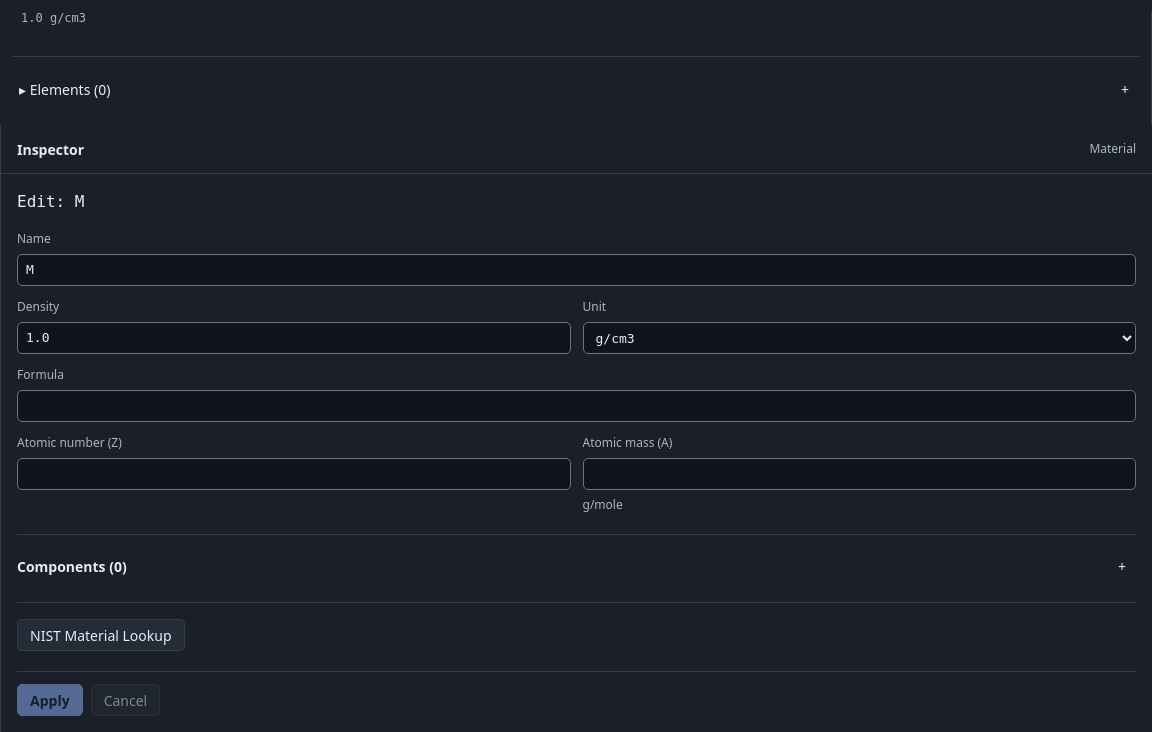
it: material drafts and document actions › Cancel restores the applied value without discarding earlier unsaved work
This screenshot has width=1152, height=732.
(page scrolled)
Replace the text in the field labelled "Density" with "3.25". click: (294, 338)
box: [17, 322, 570, 354]
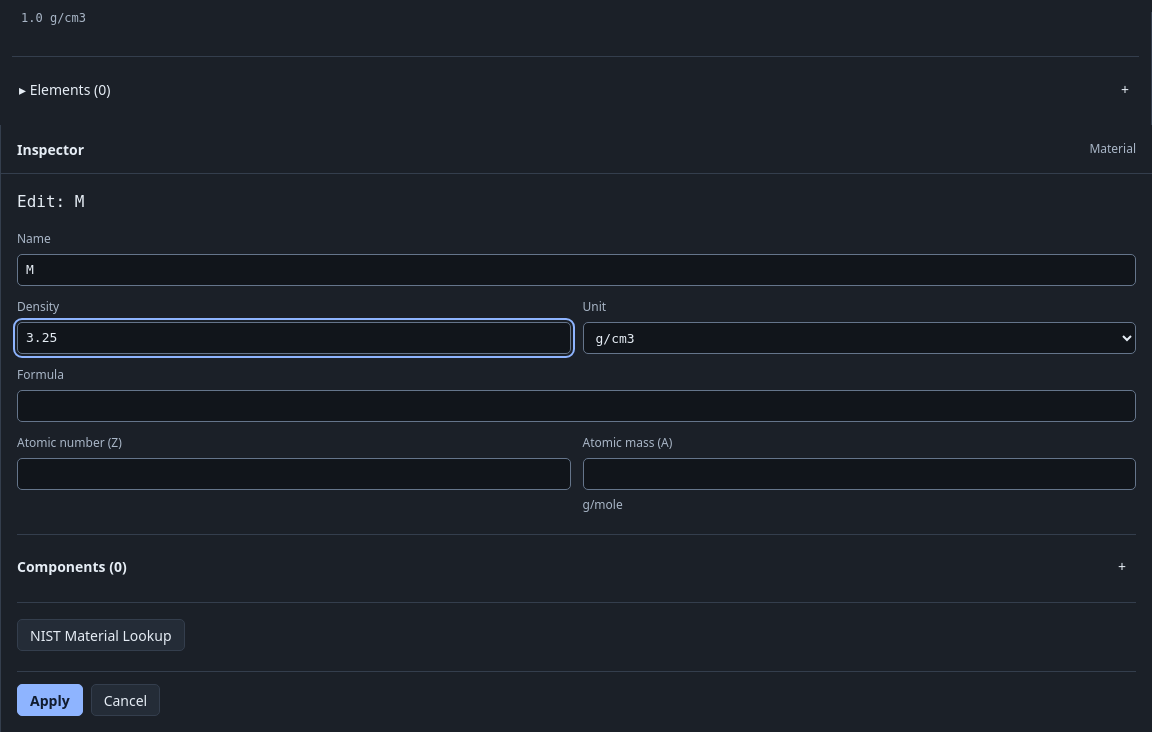
Click the button "Cancel". click: (125, 700)
box: [91, 684, 160, 716]
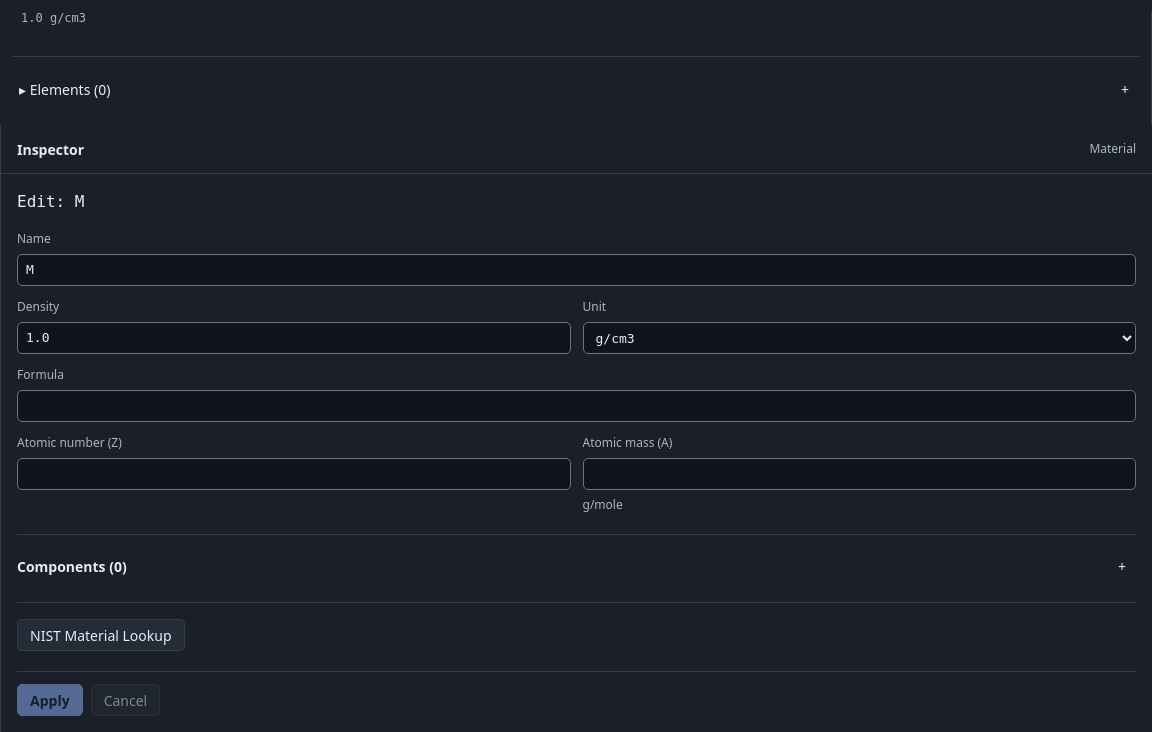
Result: the field labelled "Density" holds "1.0" at [17, 322, 570, 354]
